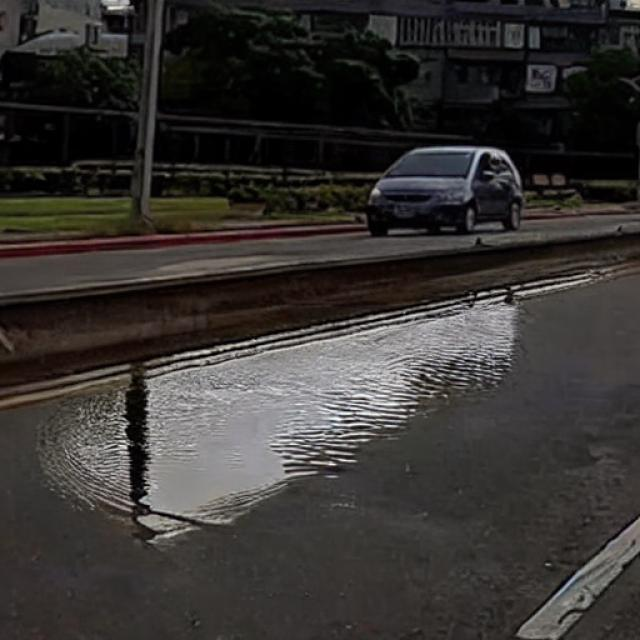puddle: (39, 306, 519, 537)
